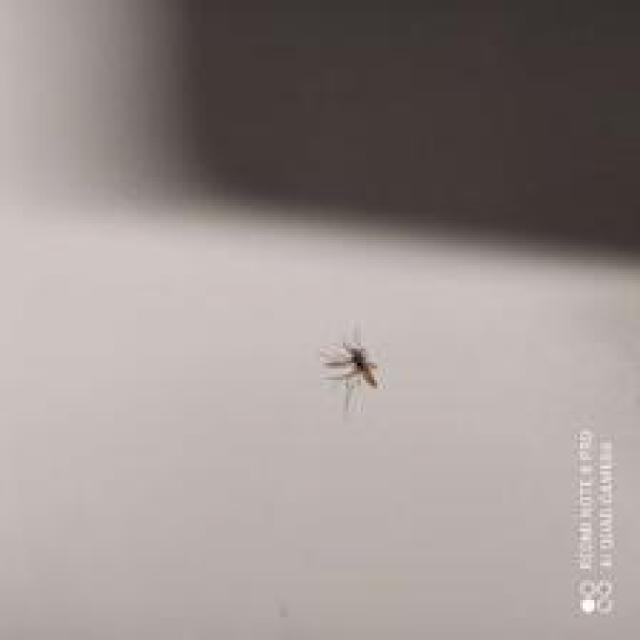Culex: (318, 332, 382, 412)
